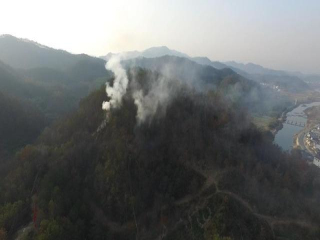smoke: (94, 52, 251, 132)
